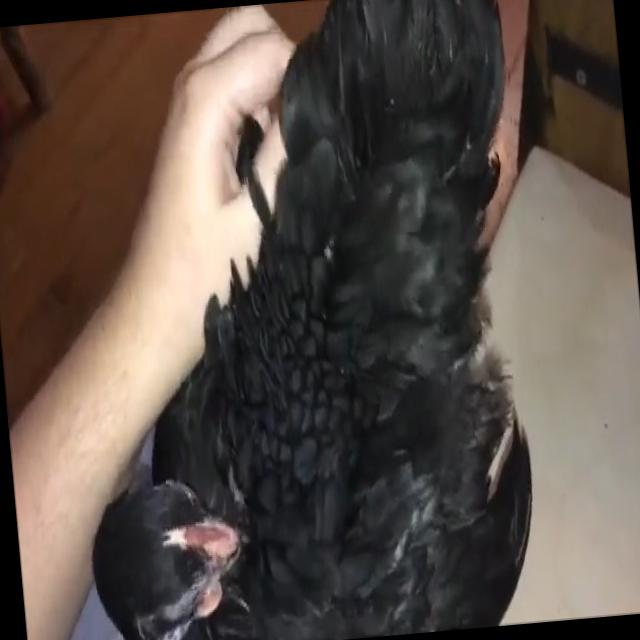self preening: (46, 0, 561, 640)
